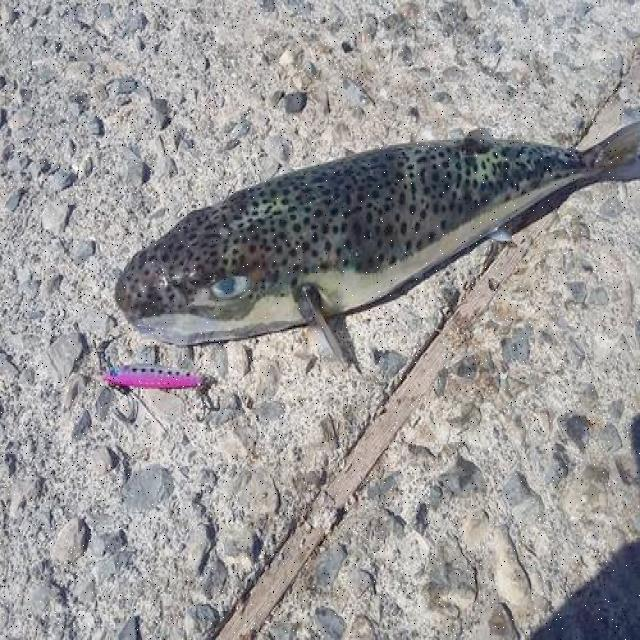Balik: (116, 123, 639, 346)
